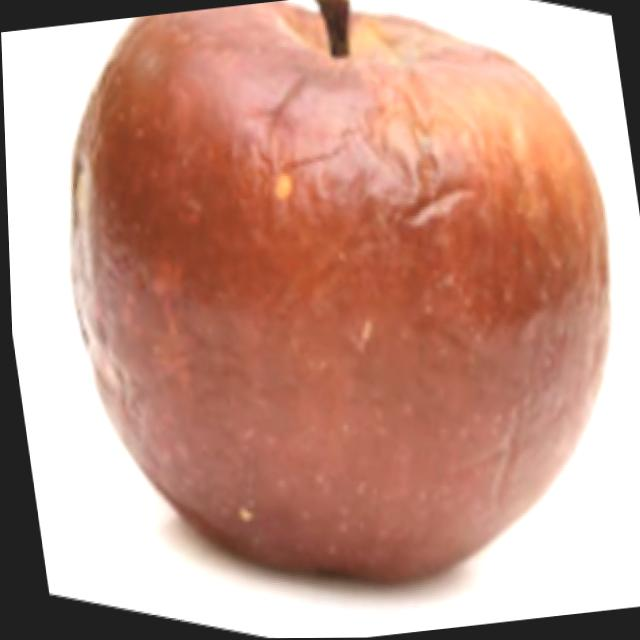organik: (19, 0, 635, 628)
